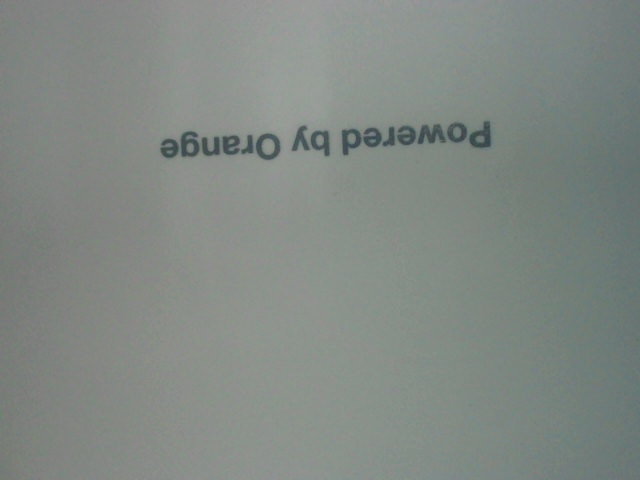AS_PowerByOrange: (138, 102, 509, 173)
